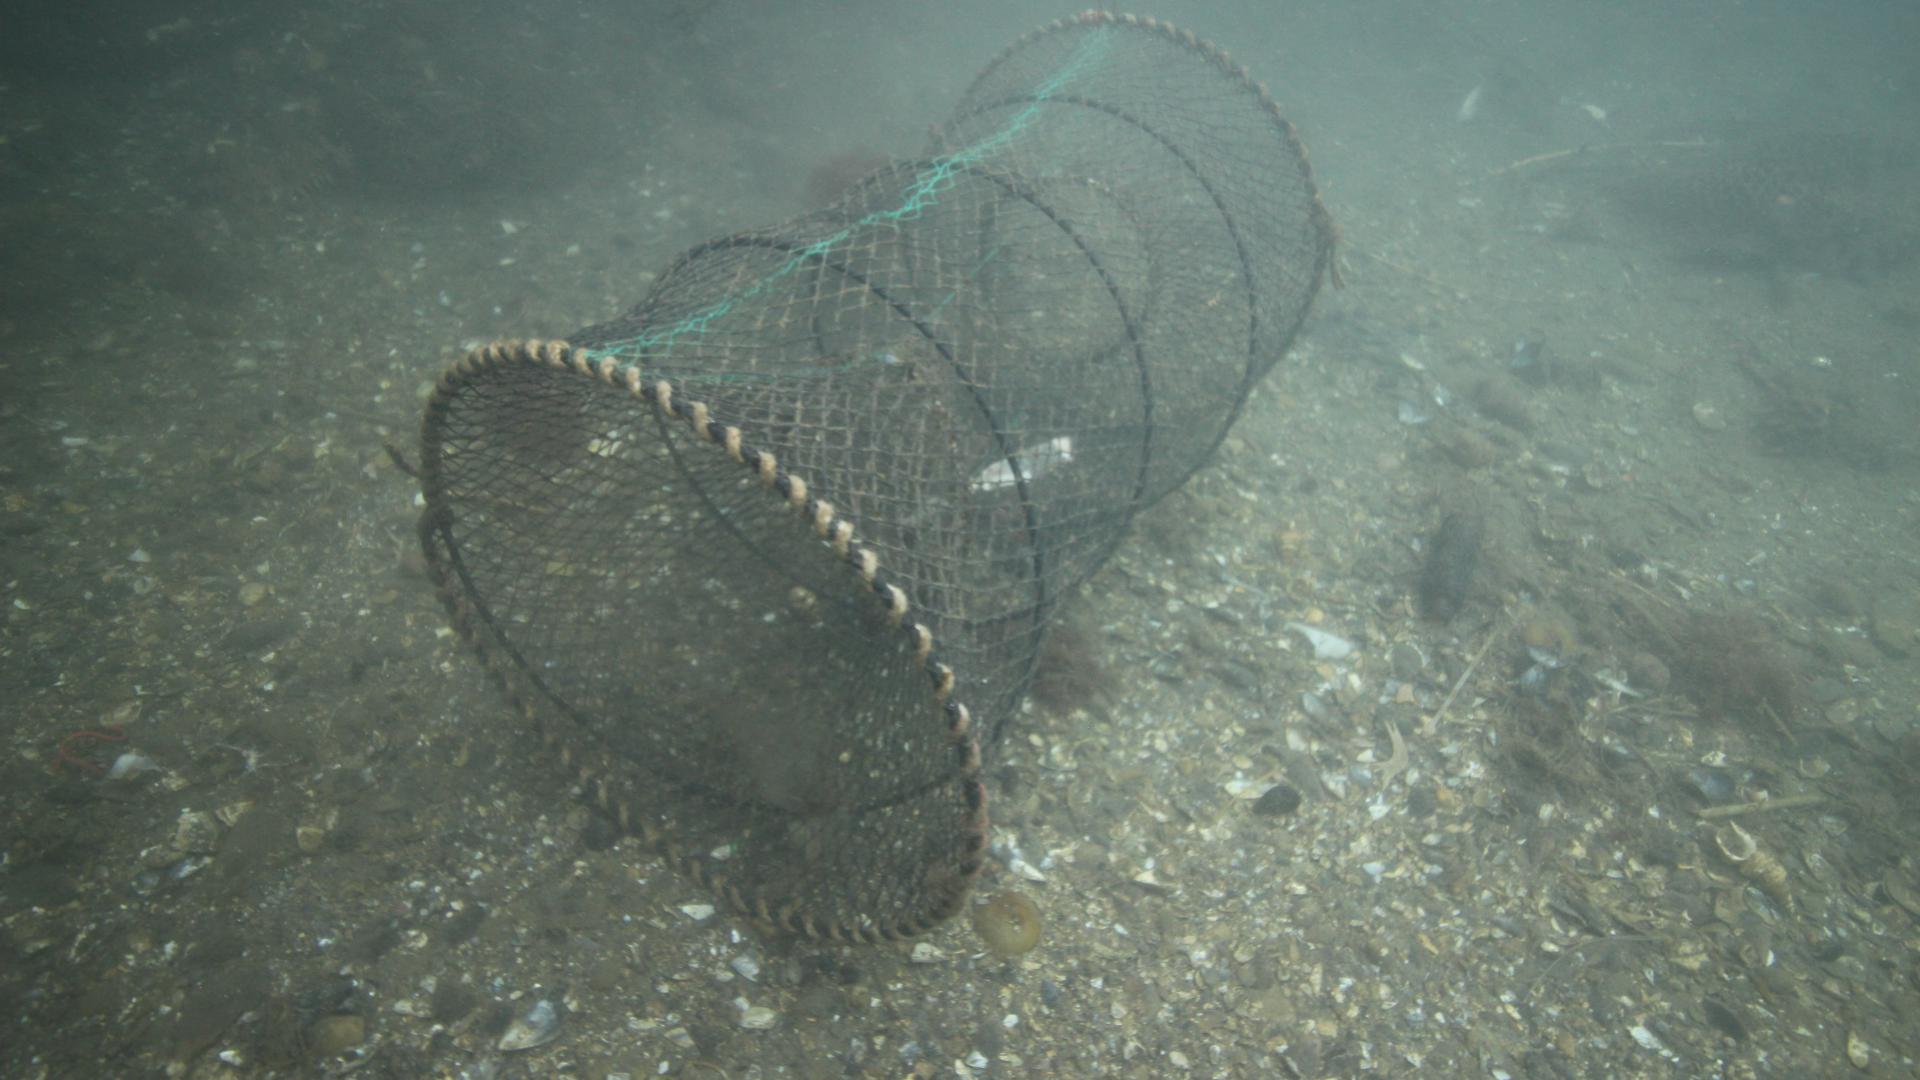spring fish trap: (417, 8, 1332, 948)
